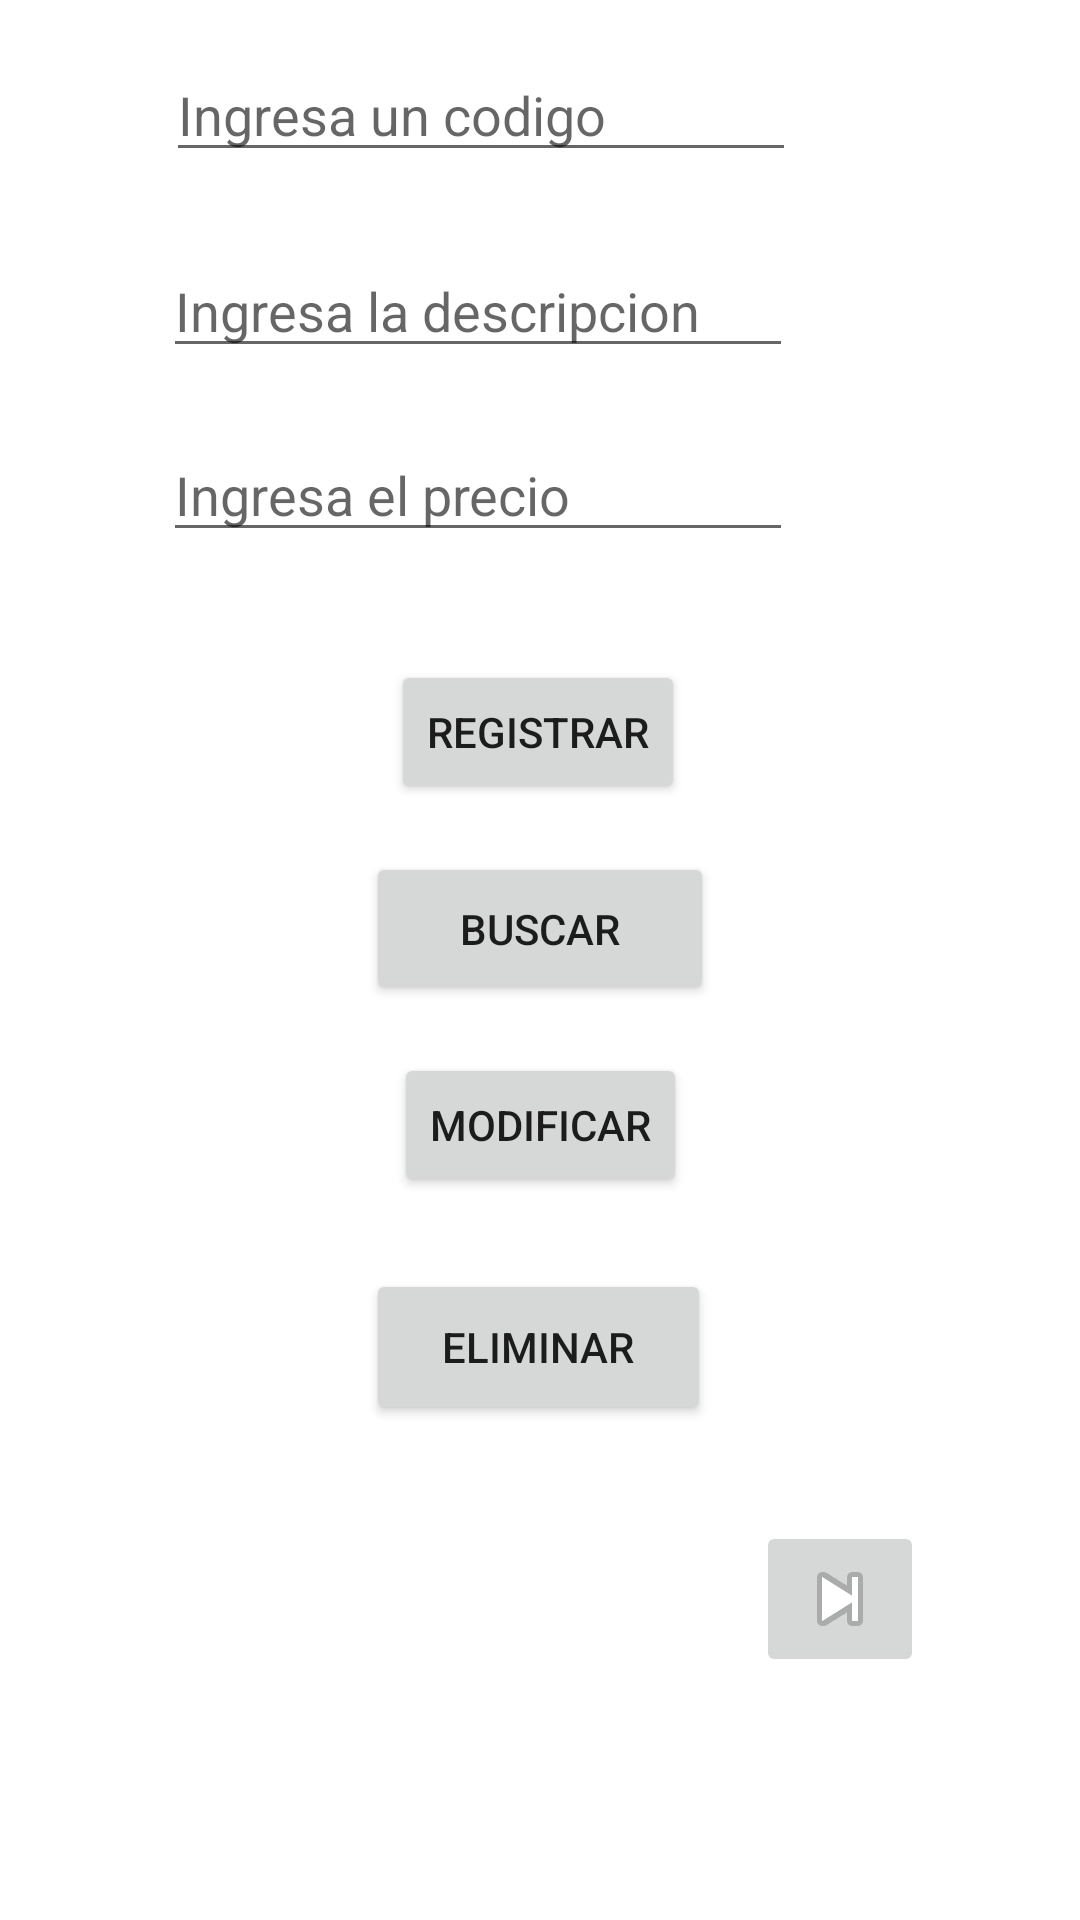

Icons on this 1080px x 1920px Android screen, each with its box as box(x1, y1, x2, y2):
next: box(768, 1539, 912, 1659)
